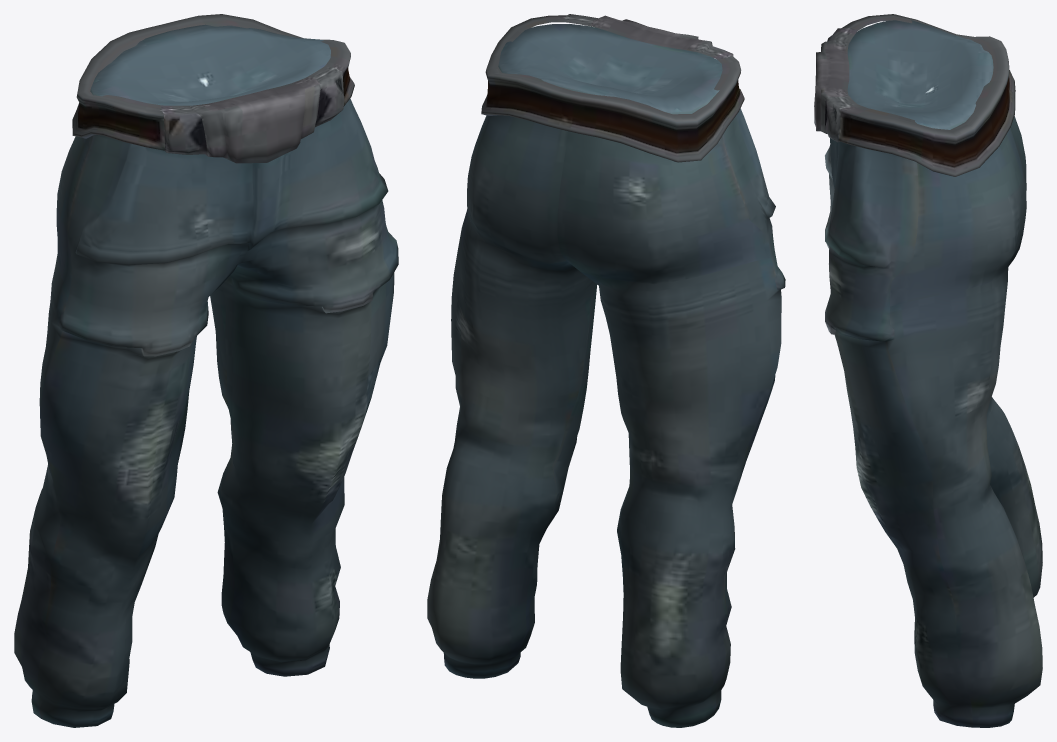
The model's file is leg1.glb.
3 renders of one model, left to right at view 1: azimuth 30°, elevation 25°; view 2: azimuth 150°, elevation 25°; view 3: azimuth 270°, elevation 25°, orthographic. The views are drawn at different scales.
Parts seen in each view (by area): view 1: Wolf3D_Outfit_Bottom; view 2: Wolf3D_Outfit_Bottom; view 3: Wolf3D_Outfit_Bottom.
Boxes of the visible parts, <box> form: Wolf3D_Outfit_Bottom: <box>14,14,398,727</box>; Wolf3D_Outfit_Bottom: <box>427,14,785,727</box>; Wolf3D_Outfit_Bottom: <box>814,14,1042,727</box>.
Size of the model in its own units: 0.4756 by 0.8516 by 0.2924.
1 material, 1 textured.
